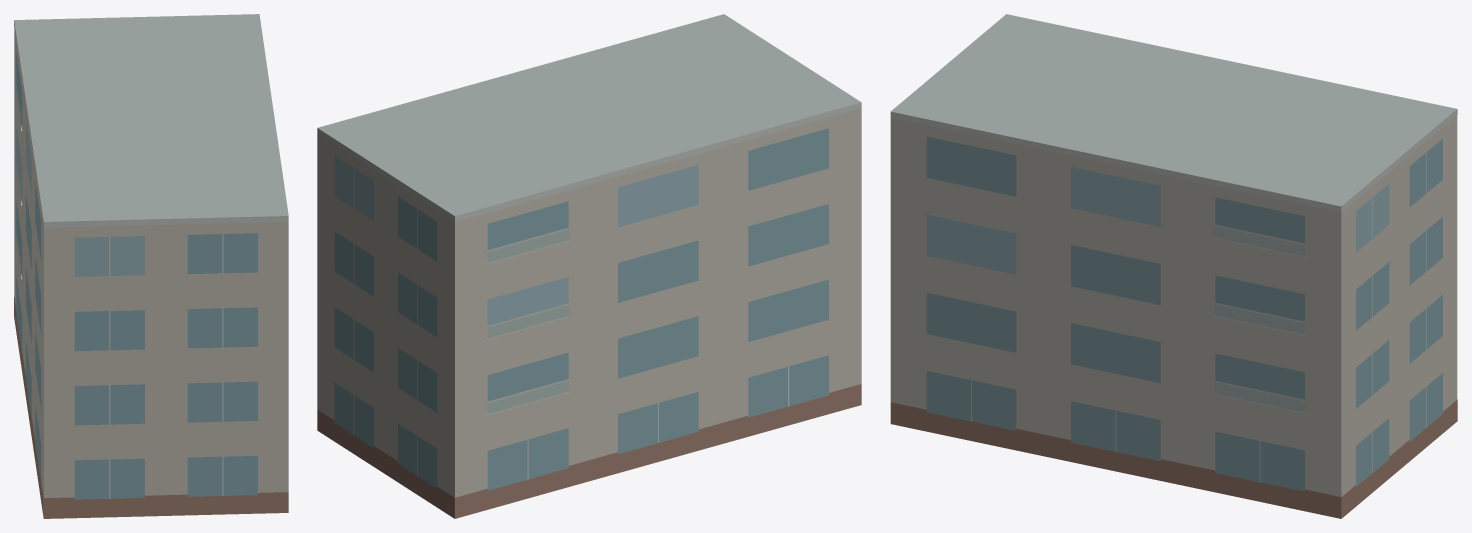
File: survey-upis-32705006.glb
3 renders of one model, left to right at view 1: azimuth 30°, elevation 25°; view 2: azimuth 150°, elevation 25°; view 3: azimuth 270°, elevation 25°, orthographic. The views are drawn at different scales.
Visible parts, largest first — view 1: survey-upis-32705006.tmp; view 2: survey-upis-32705006.tmp; view 3: survey-upis-32705006.tmp.
Boxes of the visible parts, left/top/right/bottom form: survey-upis-32705006.tmp: left=14, top=14, right=288, bottom=518; survey-upis-32705006.tmp: left=317, top=14, right=861, bottom=518; survey-upis-32705006.tmp: left=890, top=14, right=1457, bottom=518.
Bounding box in the file's own units: 16.13 × 12.2 × 20.07.
